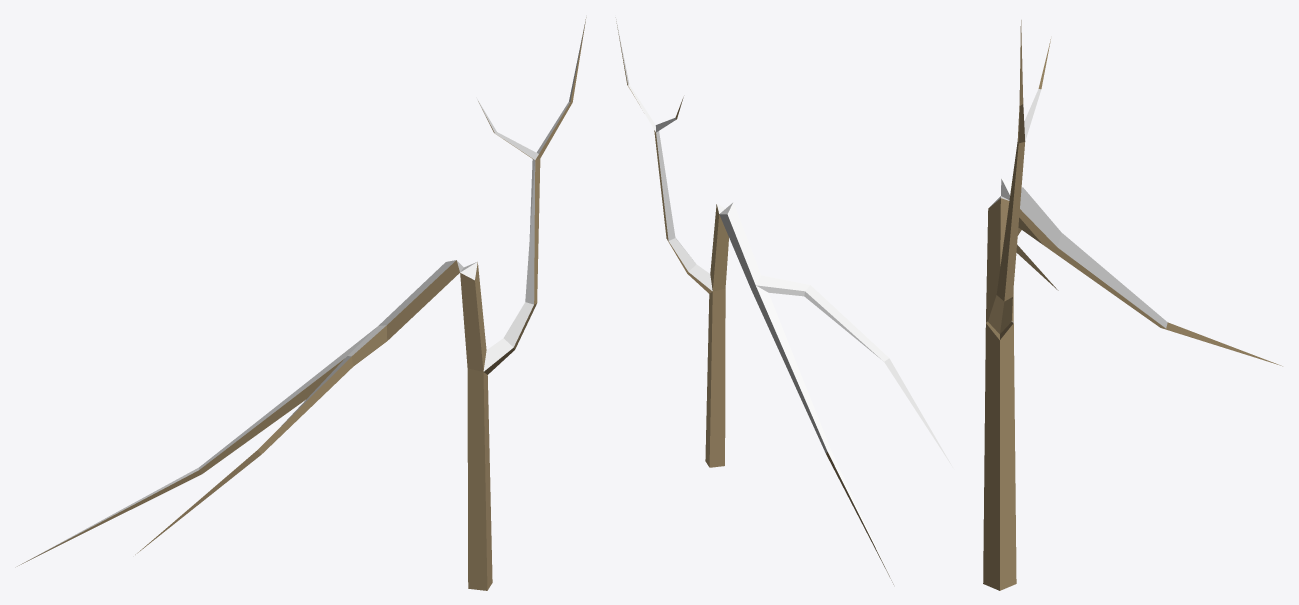
The model's file is Random_Tree_NoLeaves_crk_s_Snow_01.fbx.
3 views of the same model, side by side, from view 1: azimuth 30°, elevation 25°; view 2: azimuth 150°, elevation 25°; view 3: azimuth 270°, elevation 25° (orthographic). The views are drawn at different scales.
Parts seen in each view (by area): view 1: Random_Tree_NoLeaves_crk_s_Snow_01; view 2: Random_Tree_NoLeaves_crk_s_Snow_01; view 3: Random_Tree_NoLeaves_crk_s_Snow_01.
Part boxes in pixels (x1,y1,x2,y2): Random_Tree_NoLeaves_crk_s_Snow_01: (15,17,586,590); Random_Tree_NoLeaves_crk_s_Snow_01: (615,17,952,587); Random_Tree_NoLeaves_crk_s_Snow_01: (983,20,1282,590).
Size of the model in its own units: 212 by 235 by 101.
